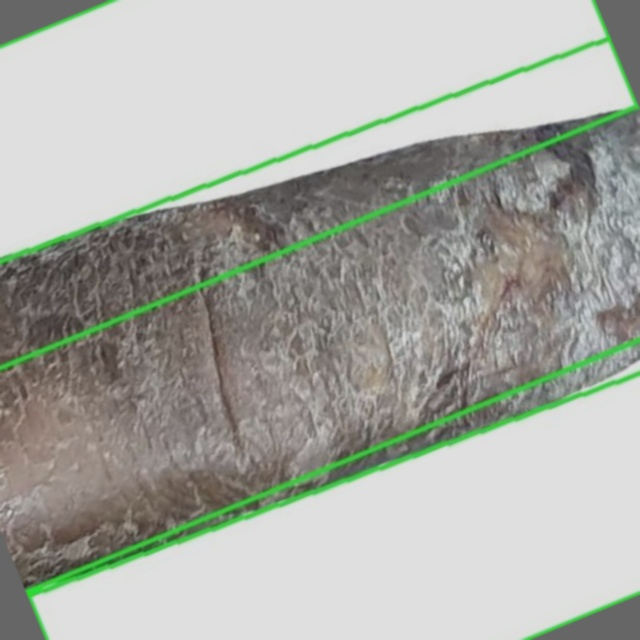Eczema: (0, 38, 639, 596), (0, 0, 637, 368)
